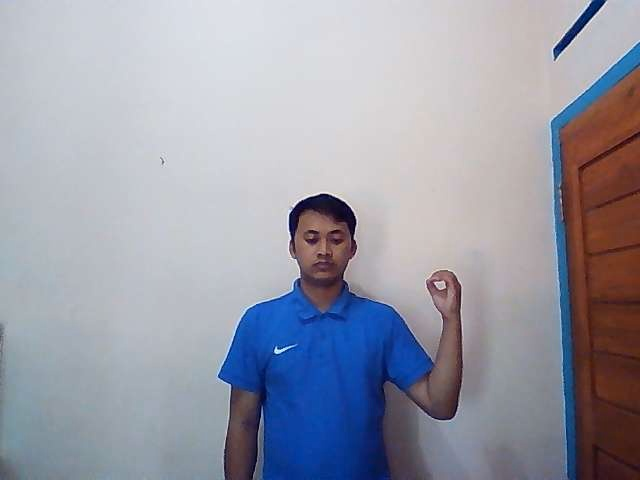O: (426, 268, 463, 316)
